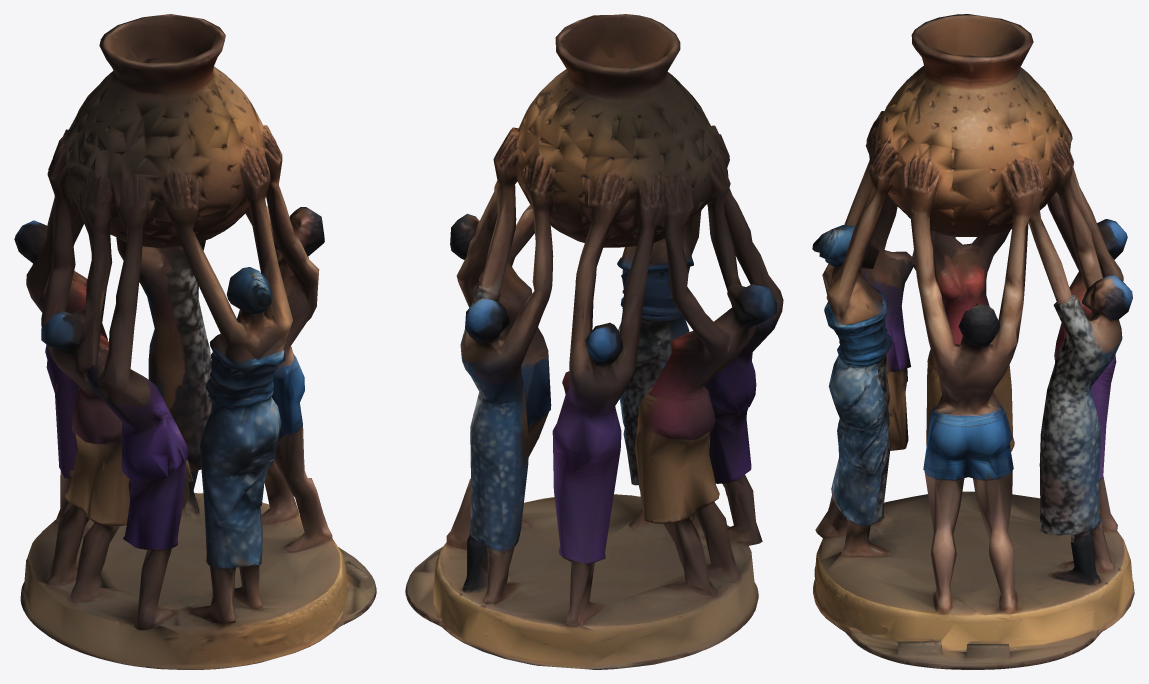
The model's file is jarre-trouee.opt.glb.
3 views of the same model, side by side, from view 1: azimuth 30°, elevation 25°; view 2: azimuth 150°, elevation 25°; view 3: azimuth 270°, elevation 25° (orthographic). The views are drawn at different scales.
Visible parts, largest first — view 1: node_0; view 2: node_0; view 3: node_0.
Part boxes in pixels (x1,y1,x2,y2): node_0: (14,14,376,669); node_0: (405,14,783,669); node_0: (812,14,1134,669).
Size of the model in its own units: 0.619 by 1.03 by 0.547.
1 material, 1 textured.
